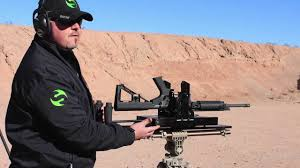gun: (113, 78, 254, 114)
